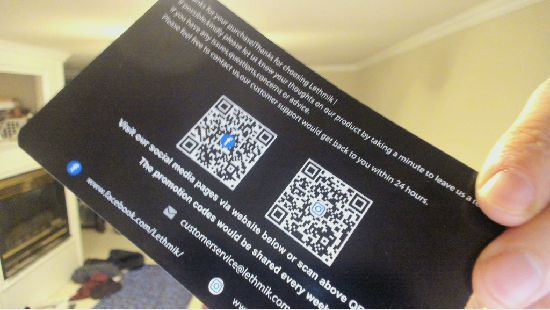QR_CODE: (261, 155, 389, 272), (164, 75, 277, 194)
